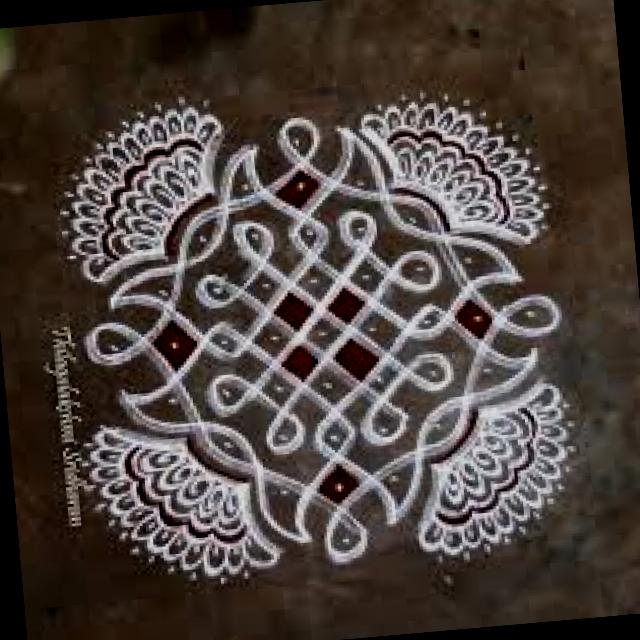rangoli: (33, 54, 605, 598)
